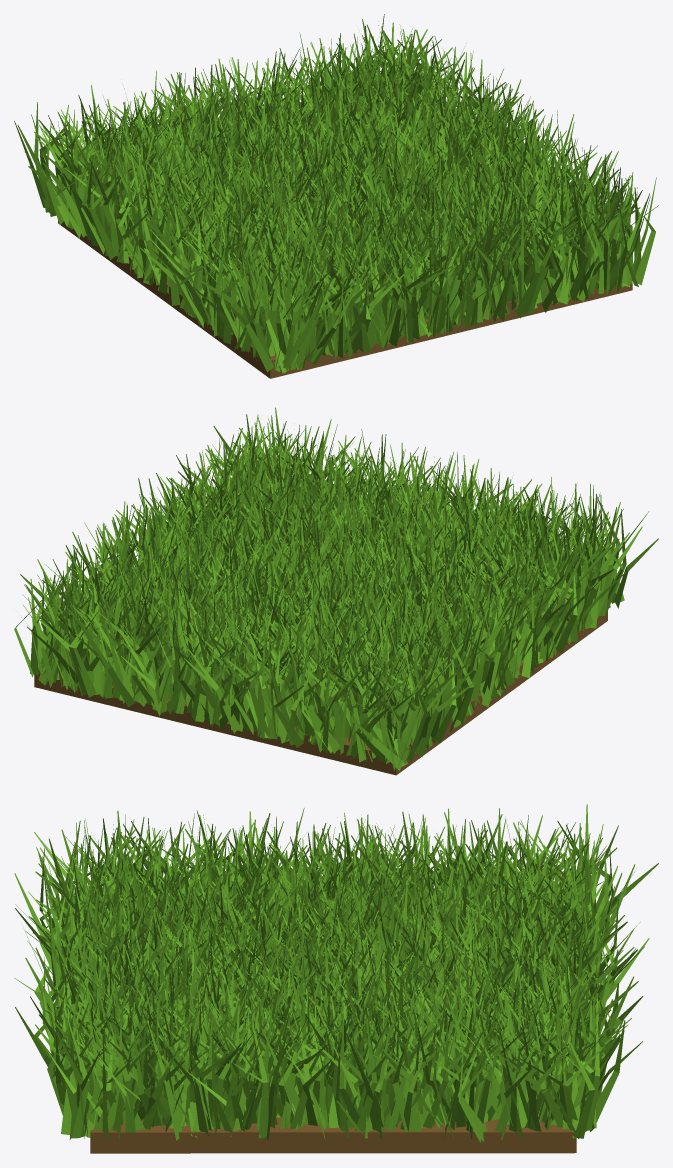
The model's file is grass.glb.
3 renders of one model, top to bottom at view 1: azimuth 30°, elevation 25°; view 2: azimuth 150°, elevation 25°; view 3: azimuth 270°, elevation 25°, orthographic. The views are drawn at different scales.
Visible parts, largest first — view 1: grassess; view 2: grassess; view 3: grassess.
Part boxes in pixels (left/top/right/bottom): grassess: left=14, top=14, right=658, bottom=378; grassess: left=14, top=407, right=658, bottom=775; grassess: left=14, top=804, right=658, bottom=1153.
Bounding box in the file's own units: 1.23 × 0.3088 × 1.33.
